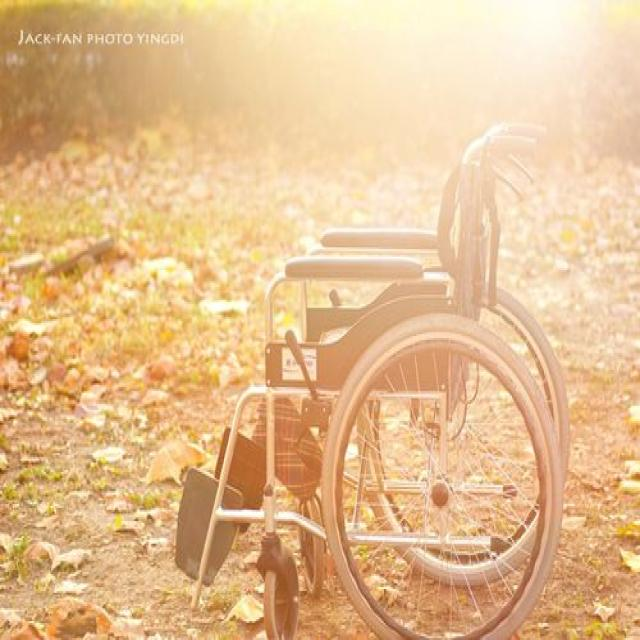wheelchairs: (130, 93, 573, 640)
